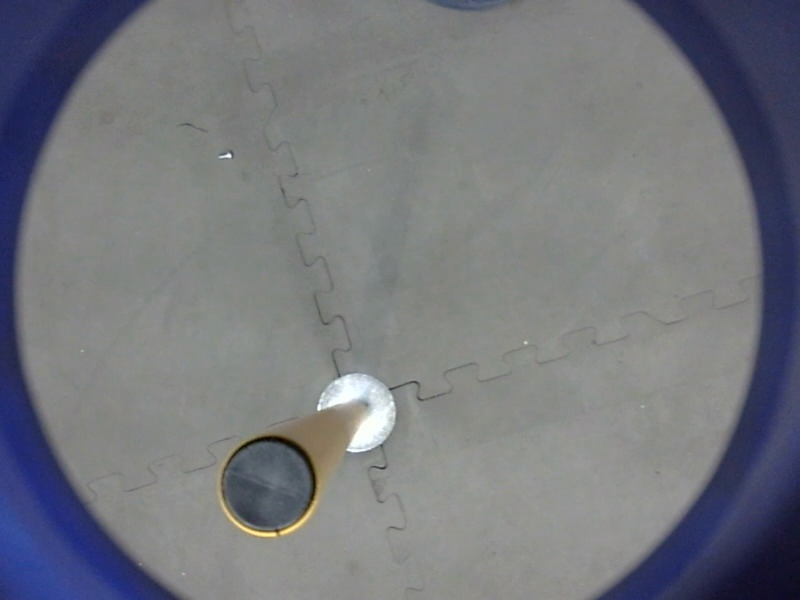tip: (211, 428, 325, 542)
